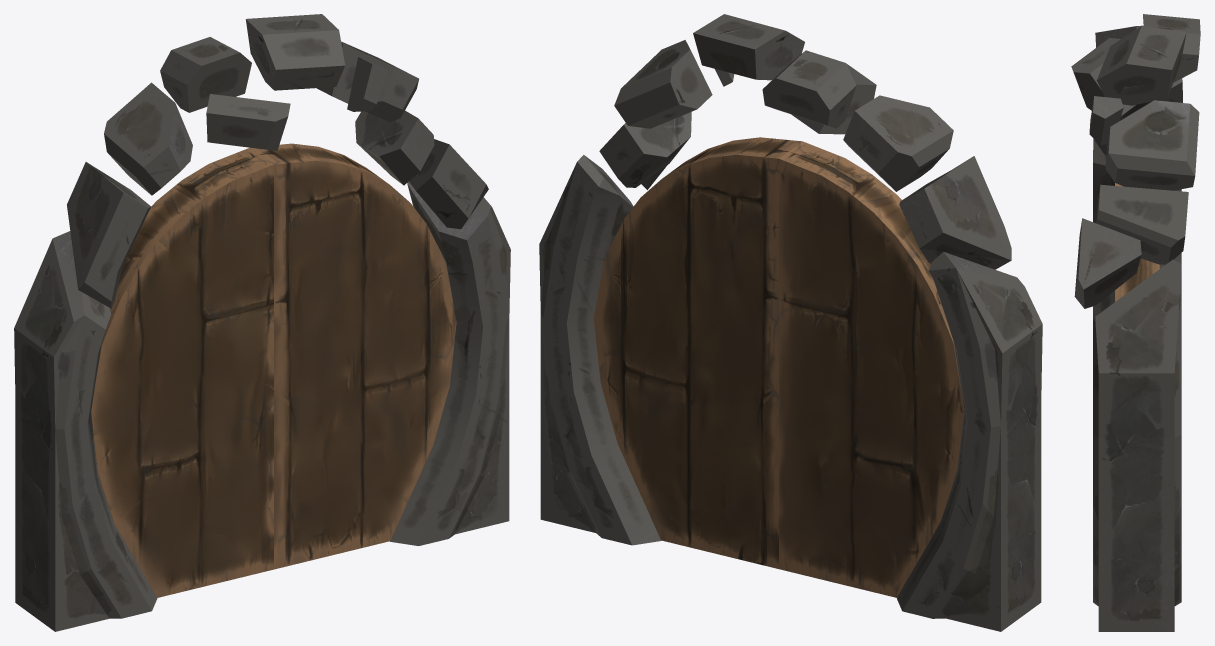
File: Gate.fbx
3 views of the same model, side by side, from view 1: azimuth 30°, elevation 25°; view 2: azimuth 150°, elevation 25°; view 3: azimuth 270°, elevation 25° (orthographic). The views are drawn at different scales.
Parts seen in each view (by area): view 1: tex_gate:gate_frame, tex_gate:gate_Left, tex_gate:gate_Right; view 2: tex_gate:gate_frame, tex_gate:gate_Left, tex_gate:gate_Right; view 3: tex_gate:gate_frame, tex_gate:gate_Right.
Part boxes in pixels (box(x1,y1,x2,y2)): tex_gate:gate_frame: box(14, 14, 510, 631); tex_gate:gate_Left: box(91, 147, 273, 597); tex_gate:gate_Right: box(251, 143, 456, 569); tex_gate:gate_frame: box(539, 14, 1042, 631); tex_gate:gate_Left: box(779, 141, 963, 597); tex_gate:gate_Right: box(593, 137, 801, 568); tex_gate:gate_frame: box(1071, 14, 1200, 631); tex_gate:gate_Right: box(1115, 183, 1159, 301).
Bounding box in the file's own units: 503 × 552 × 129.
